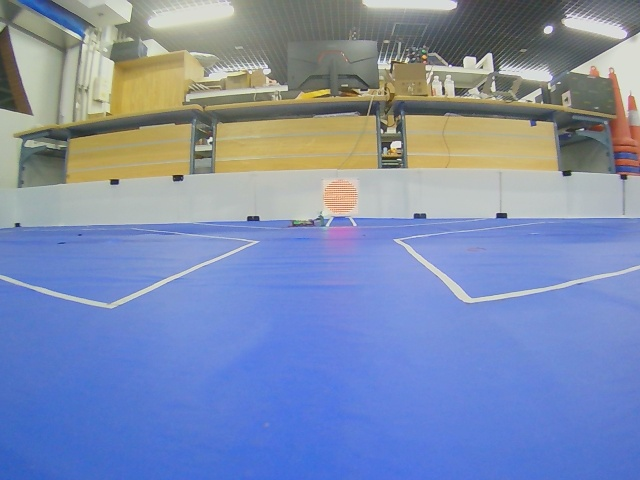red: (323, 179, 358, 216)
